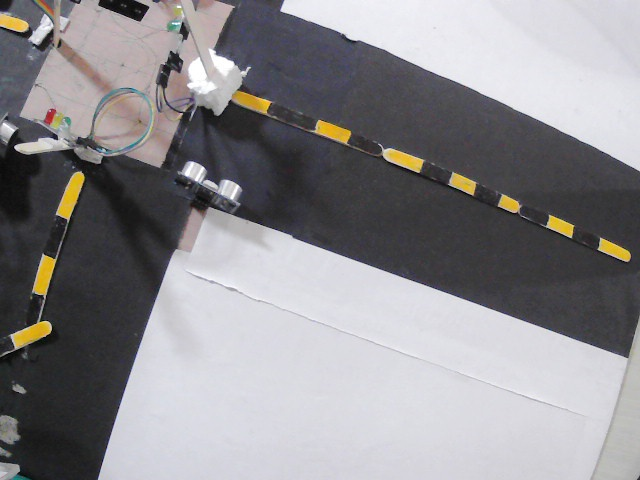black_strip: (263, 99, 316, 135), (42, 215, 67, 255), (418, 159, 450, 183), (348, 131, 382, 153), (515, 201, 548, 222), (24, 293, 40, 327), (475, 183, 500, 204), (575, 225, 595, 248)
mixed_lane: (231, 88, 628, 257), (2, 170, 81, 348), (0, 9, 29, 31)
traffic_light: (146, 0, 195, 87), (32, 99, 102, 159), (86, 0, 146, 24)
uno_breadboard: (177, 163, 242, 214), (0, 112, 23, 159)
yellow_strip: (52, 167, 83, 215), (226, 87, 266, 111), (384, 144, 421, 168), (11, 324, 50, 345), (32, 254, 55, 288), (316, 117, 348, 140), (446, 171, 478, 194), (596, 239, 628, 258), (544, 213, 572, 234), (0, 9, 24, 30), (500, 195, 518, 210)
